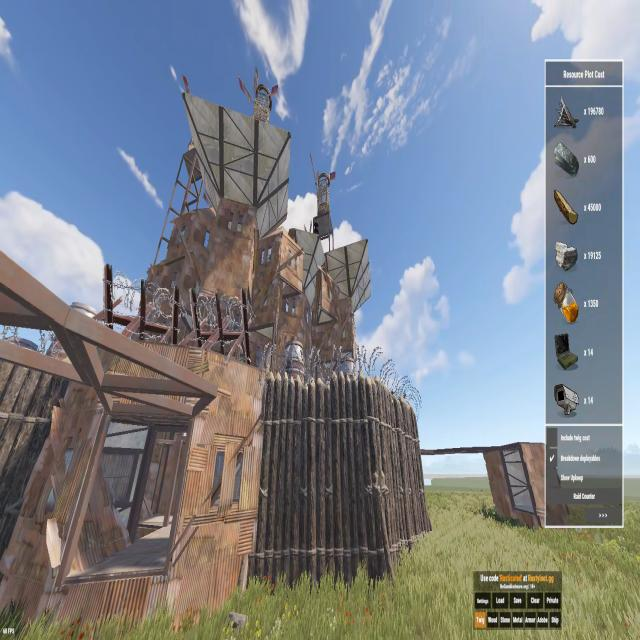Player: (314, 218, 319, 236)
